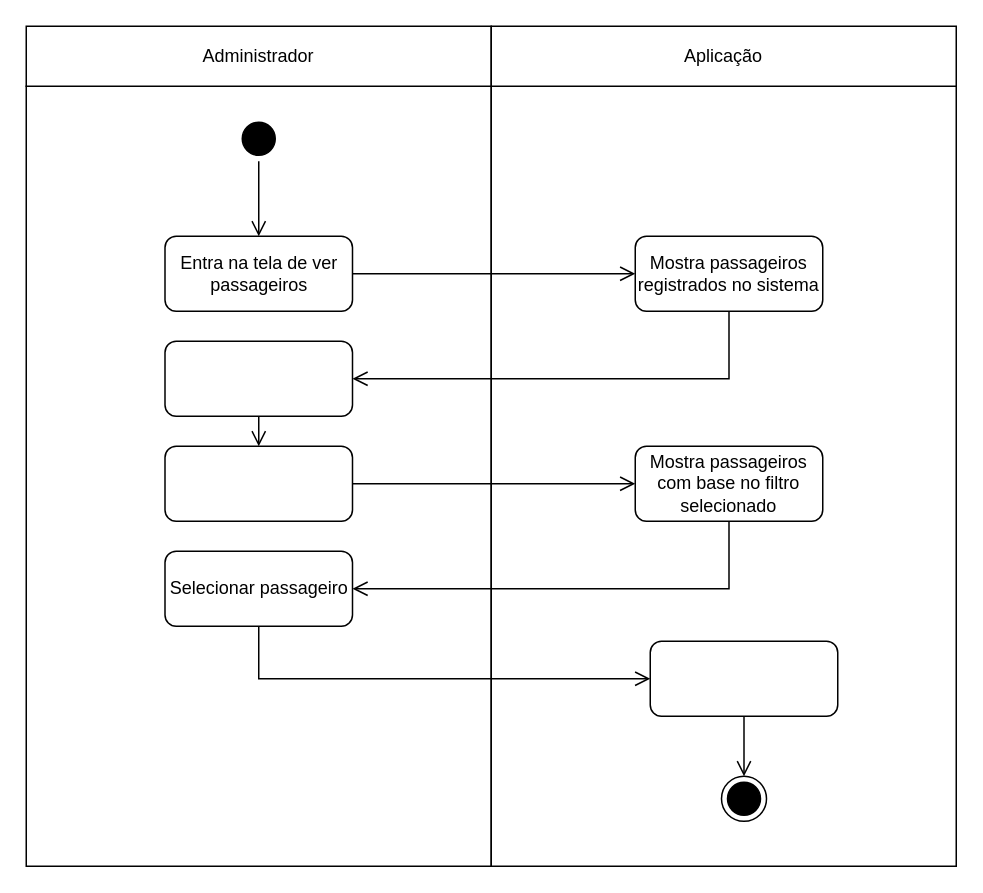
The diagram is 983 pixels wide and 893 high, and some of its shapes have lost their labels. The shapes that lost their labels are listed below. From the top down, each one's centre as x and y in pixels, then its label:
point (258, 378): Escolhe filtros
point (258, 483): Pesquisa por passageiros utilizando o filtro
point (743, 678): Mostra dados do passageiro
